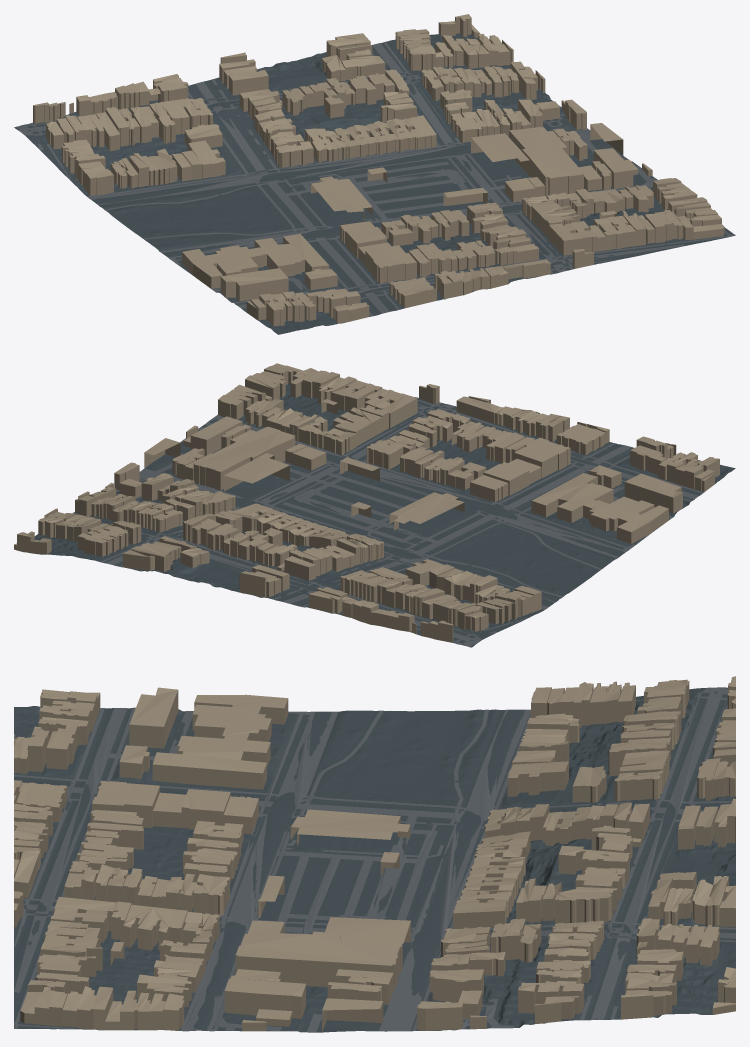
Rendered from epsg26910-1430-10887.lod0.glb.
3 views of the same model, one above another, from view 1: azimuth 30°, elevation 25°; view 2: azimuth 150°, elevation 25°; view 3: azimuth 270°, elevation 25° (orthographic). The views are drawn at different scales.
Parts seen in each view (by area): view 1: epsg26910-1430-10887-lod0; view 2: epsg26910-1430-10887-lod0; view 3: epsg26910-1430-10887-lod0.
Boxes of the visible parts, left/top/right/bottom form: epsg26910-1430-10887-lod0: left=14, top=14, right=735, bottom=334; epsg26910-1430-10887-lod0: left=14, top=363, right=735, bottom=647; epsg26910-1430-10887-lod0: left=14, top=676, right=735, bottom=1032.
Size of the model in its own units: 384 by 39.05 by 384.
